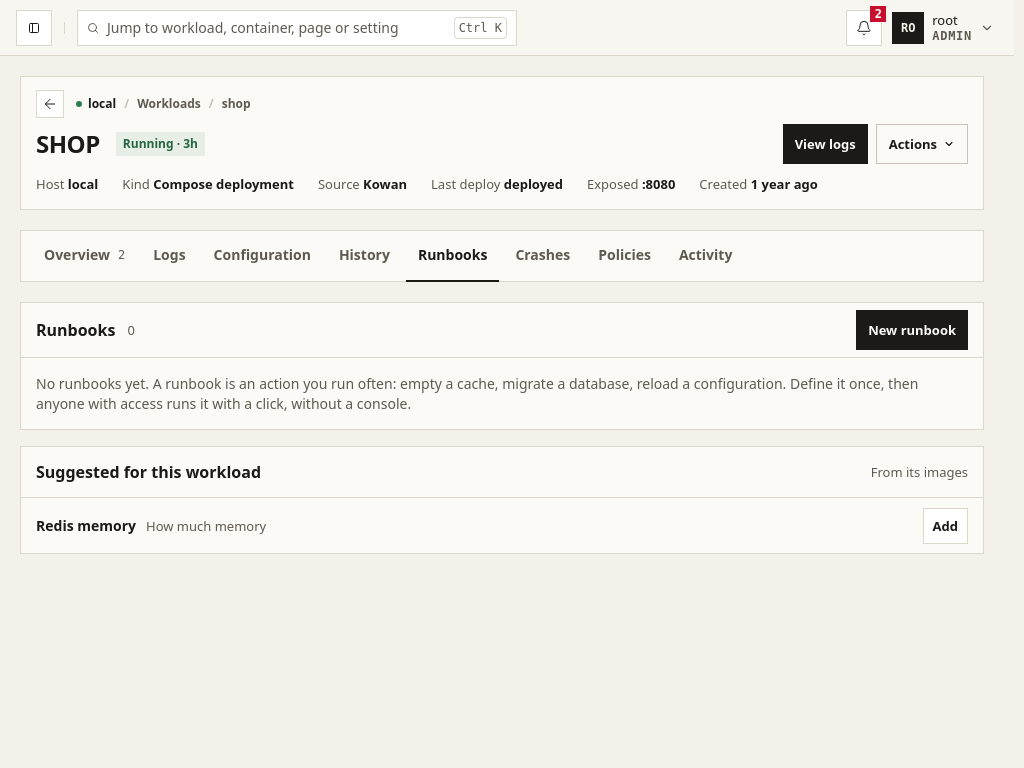
Test: runbooks › creates a runbook from the workload, and adds a suggested one
The image size is (1024, 768).
Expected: the text "No runbooks yet" is shown, [36,374,918,413]
Click the button "New runbook". click: click(912, 330)
box: [856,310,968,350]
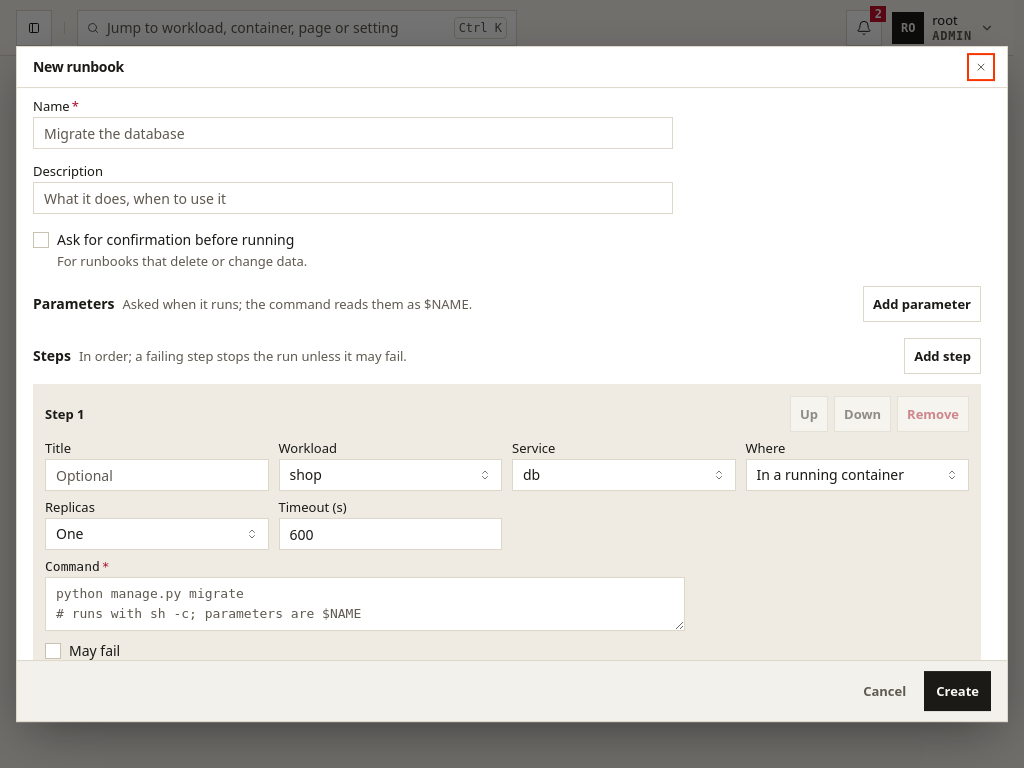
Type "Migrate" into the field labelled "Name*". click: (353, 133)
box: [33,117,673,149]
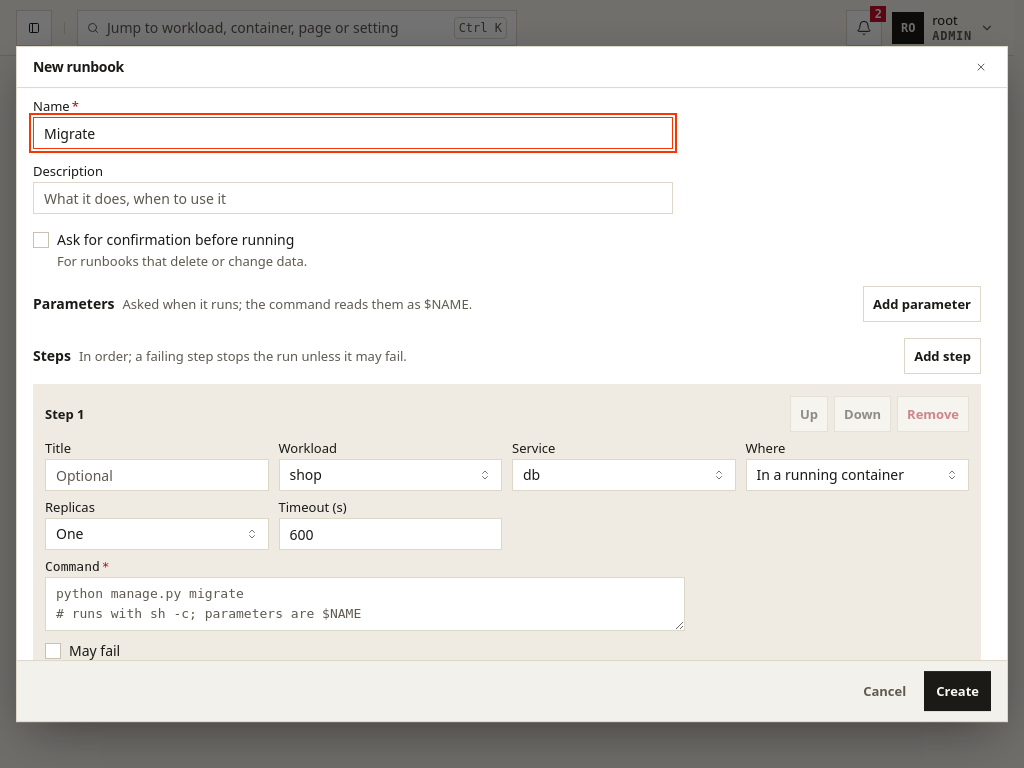
Type "python manage.py migrate" into the text box labelled "Command*". click: (365, 604)
box: [45,577,685,631]
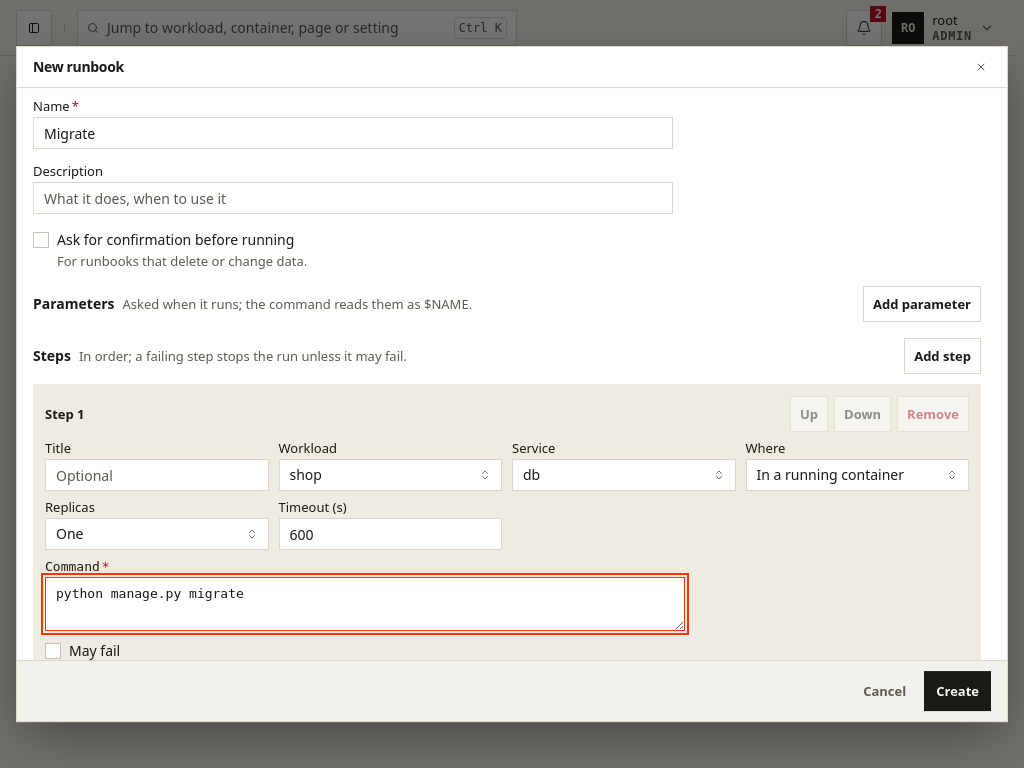
Click the checkbox labelled "May fail A failure is reported and the next steps still run.". click: click(53, 651)
box: [45,643,61,659]
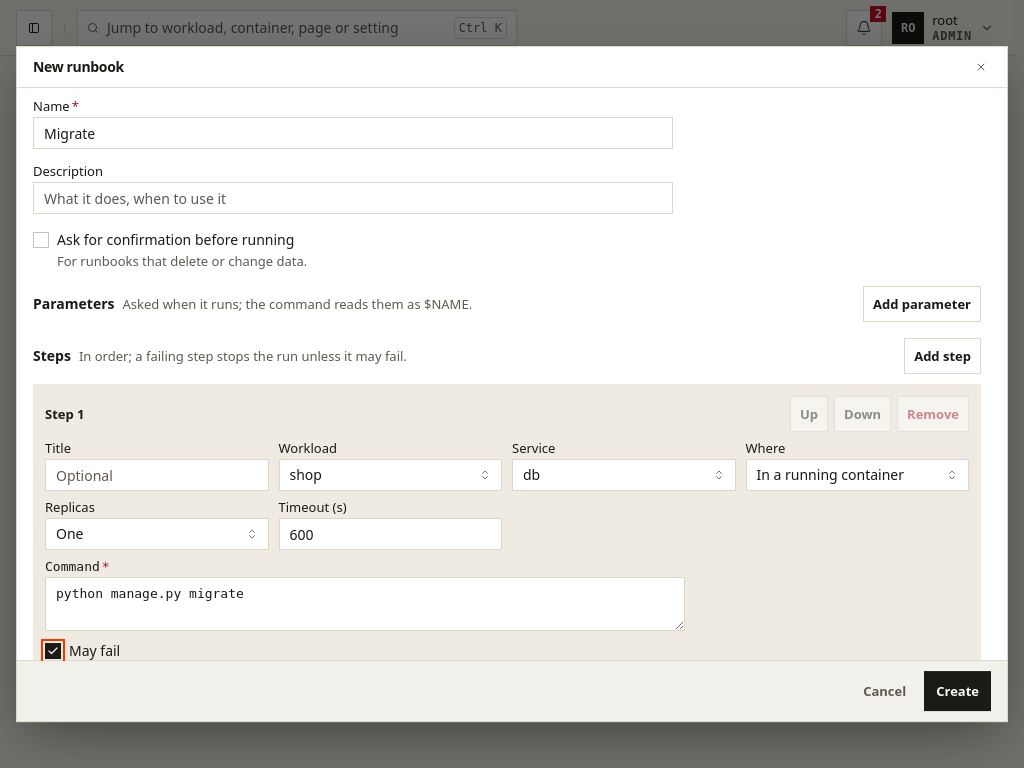
Click the button "Create". click: click(958, 691)
box: [924,671,991,711]
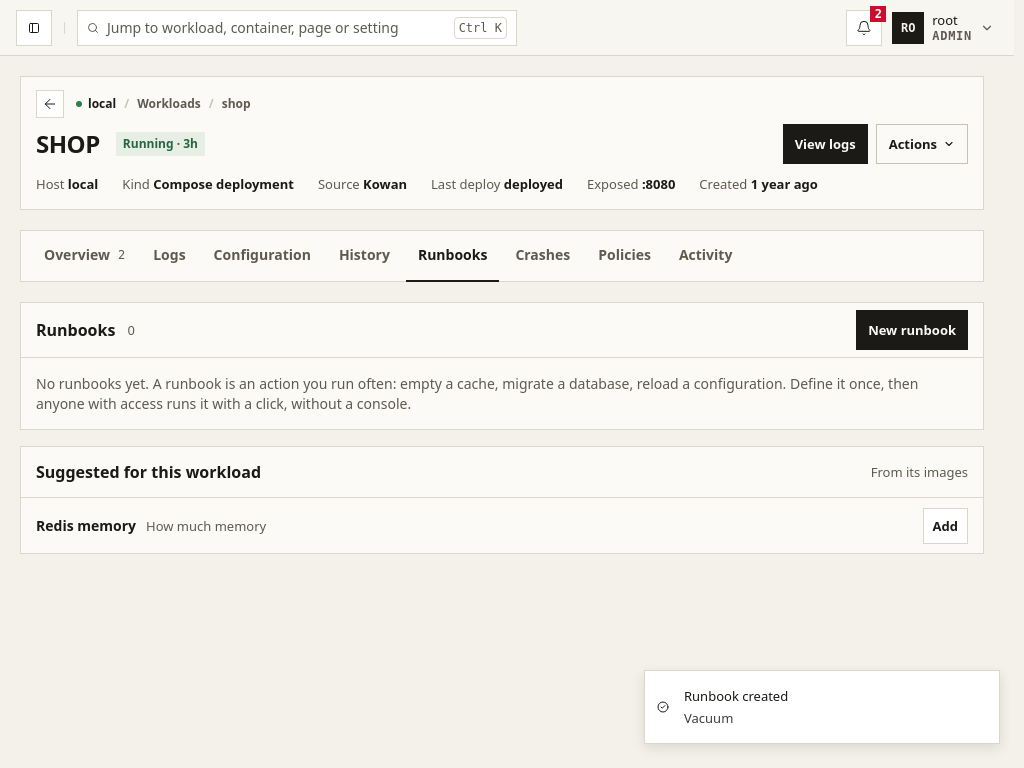
Now the text "Runbook created" is shown, box [684,687,788,707]
Click the button "Add". click: click(945, 526)
box: [923,508,968,544]
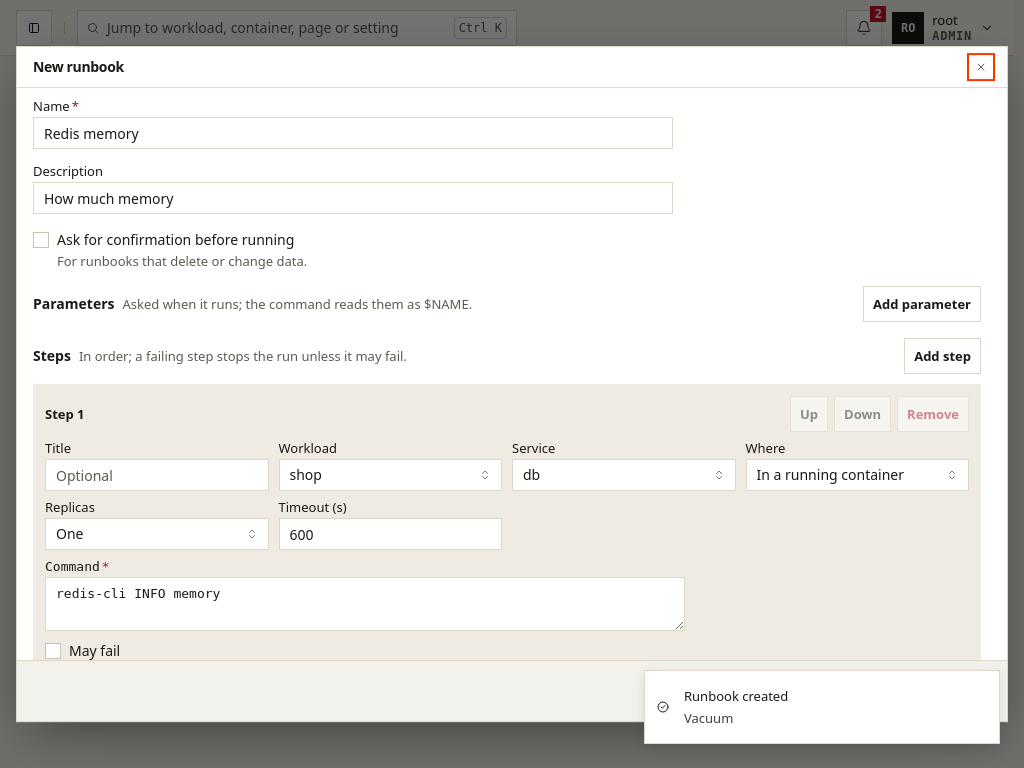
Now the field labelled "Name*" holds "Redis memory", box [33,117,673,149]
Now the text box labelled "Command*" holds "redis-cli INFO memory", box [45,577,685,631]
